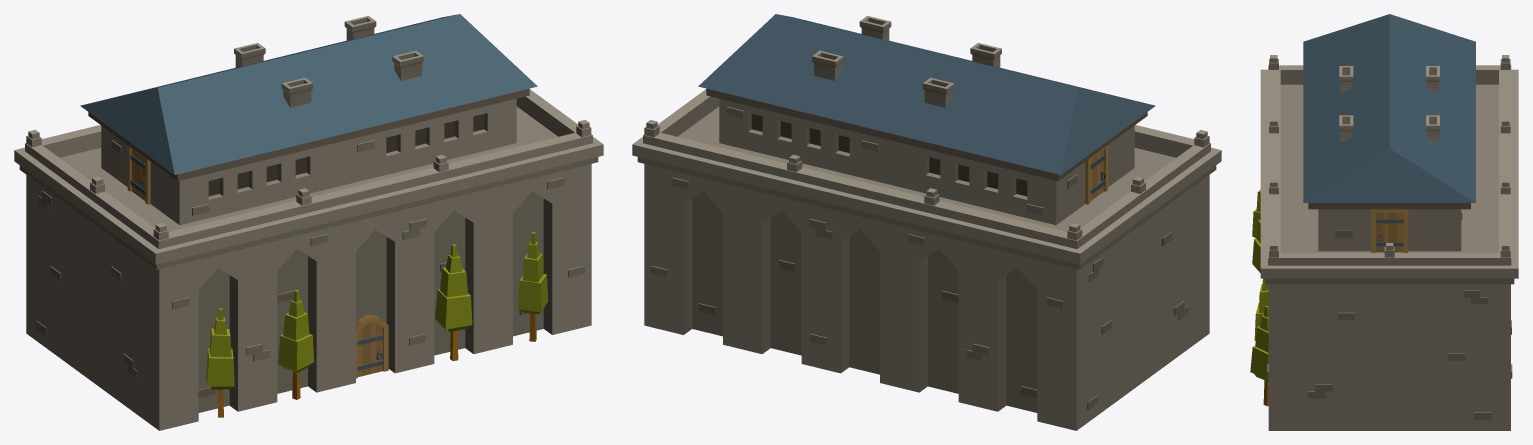
Rendered from SF_Bld_Castle_Hall_03.fbx.
3 views of the same model, side by side, from view 1: azimuth 30°, elevation 25°; view 2: azimuth 150°, elevation 25°; view 3: azimuth 270°, elevation 25° (orthographic). The views are drawn at different scales.
Visible parts, largest first — view 1: SF_Bld_Castle_Hall_03; view 2: SF_Bld_Castle_Hall_03; view 3: SF_Bld_Castle_Hall_03.
Boxes of the visible parts, x1,y1,x2,y2 form: SF_Bld_Castle_Hall_03: (14,14,603,430); SF_Bld_Castle_Hall_03: (632,14,1221,430); SF_Bld_Castle_Hall_03: (1250,14,1518,430).
Size of the model in its own units: 33.82 by 20.1 by 19.26.
